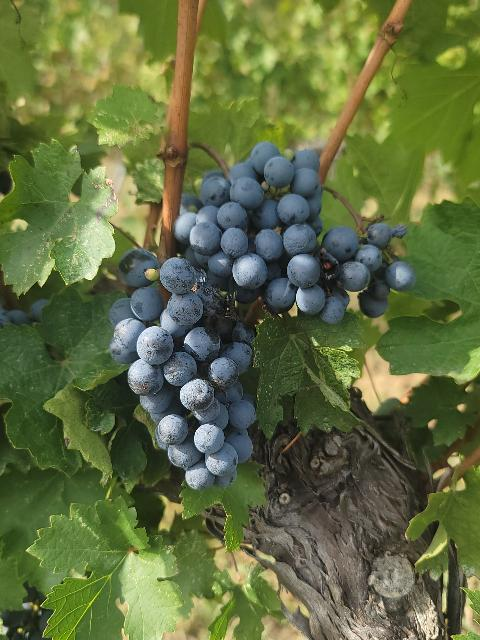grapes: (109, 249, 256, 490), (181, 142, 342, 320), (321, 222, 416, 318)
